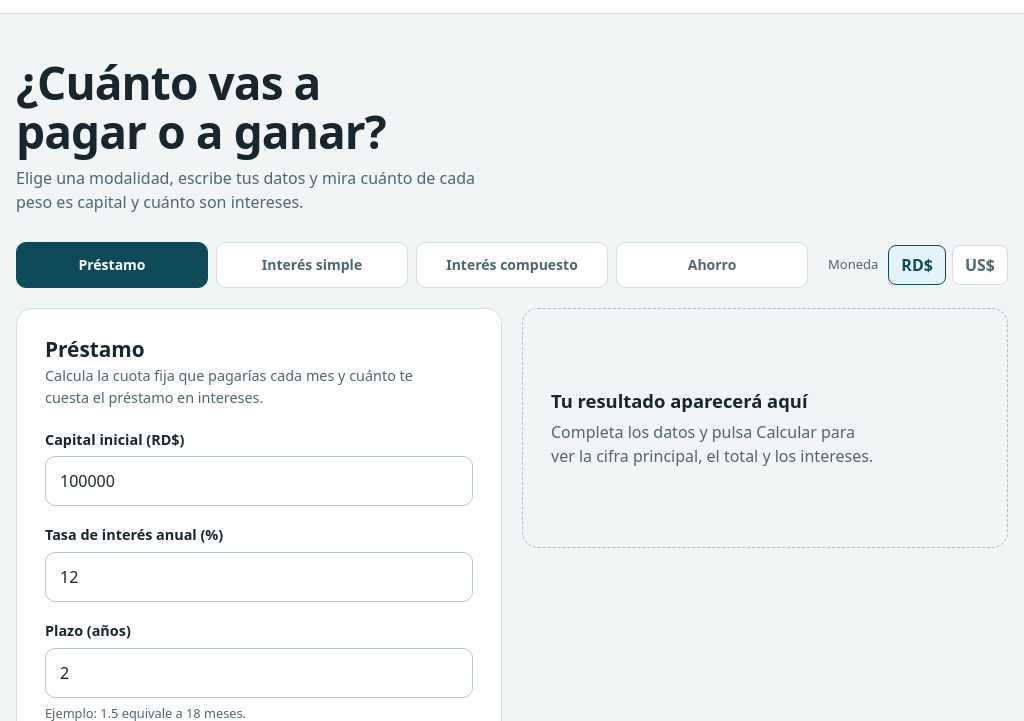
Test: FinanCalc › cambia el formato a dólares
The image size is (1024, 721).
Click the button "US$" at point(980, 264), box [952, 244, 1008, 284]
(page scrolled)
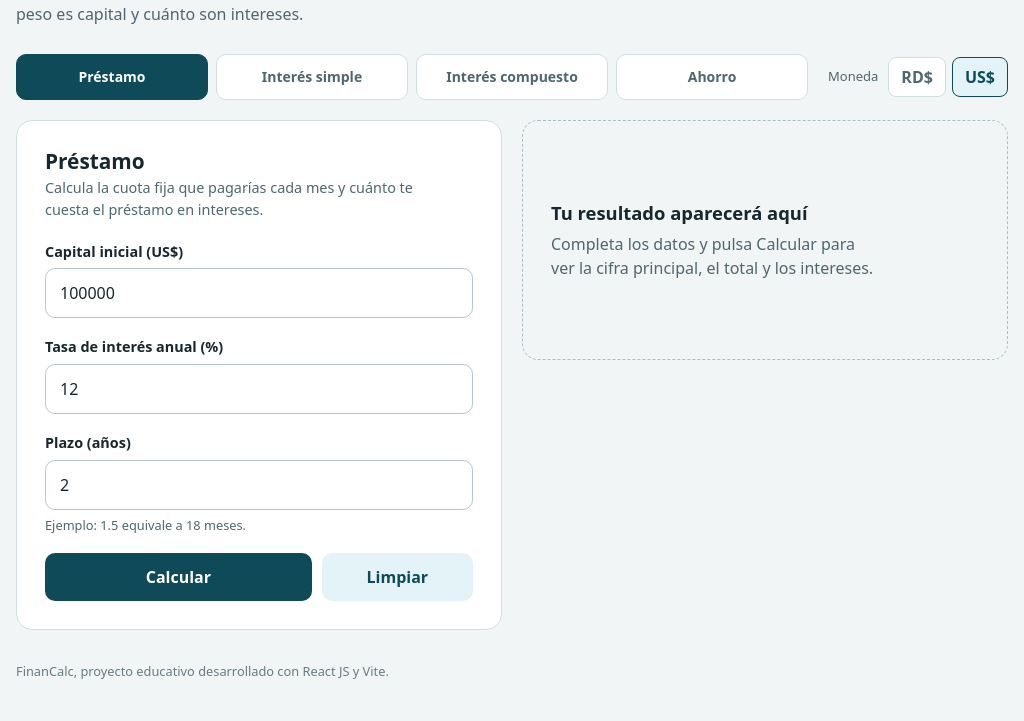
Click the button "Calcular" at point(178, 577), box [45, 553, 312, 601]
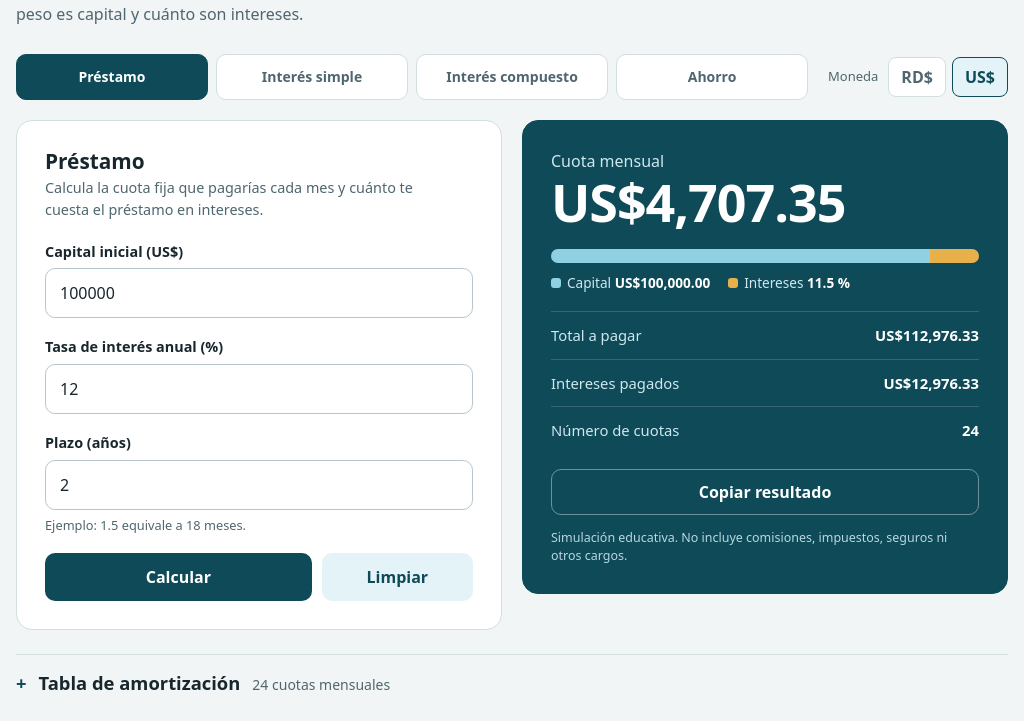
Now the text "Capital inicial (US$)" is shown, box [45, 242, 183, 261]
Now the text "US$4,707.35" is shown, box [551, 166, 845, 236]
